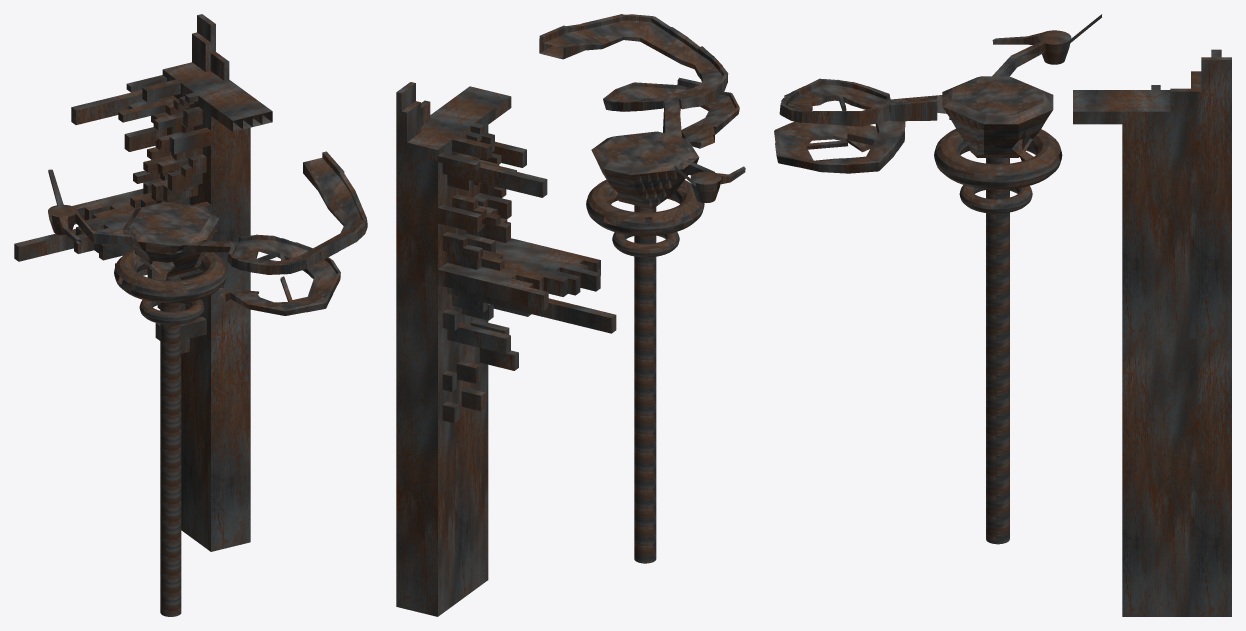
The model's file is LevelPart01.FBX.
3 renders of one model, left to right at view 1: azimuth 30°, elevation 25°; view 2: azimuth 150°, elevation 25°; view 3: azimuth 270°, elevation 25°, orthographic. The views are drawn at different scales.
Parts seen in each view (by area): view 1: Tower_of_Dildos, Neo_Nuclear_Nursery, The_Bitch_Ramp, Crazy_Claw; view 2: Tower_of_Dildos, Neo_Nuclear_Nursery, The_Bitch_Ramp, Crazy_Claw; view 3: Tower_of_Dildos, Neo_Nuclear_Nursery, The_Bitch_Ramp, Crazy_Claw.
Boxes of the visible parts, left/top/right/bottom form: Tower_of_Dildos: left=14, top=14, right=272, bottom=551; Neo_Nuclear_Nursery: left=114, top=202, right=227, bottom=616; The_Bitch_Ramp: left=182, top=151, right=367, bottom=315; Crazy_Claw: left=48, top=169, right=136, bottom=245; Tower_of_Dildos: left=396, top=82, right=616, bottom=616; Neo_Nuclear_Nursery: left=586, top=131, right=704, bottom=563; The_Bitch_Ramp: left=539, top=14, right=739, bottom=148; Crazy_Claw: left=674, top=162, right=745, bottom=202; Tower_of_Dildos: left=1073, top=49, right=1231, bottom=616; Neo_Nuclear_Nursery: left=934, top=76, right=1062, bottom=544; The_Bitch_Ramp: left=774, top=78, right=946, bottom=173; Crazy_Claw: left=992, top=14, right=1101, bottom=76.
Size of the model in its own units: 214 by 436 by 325.
1 material, 1 textured.
